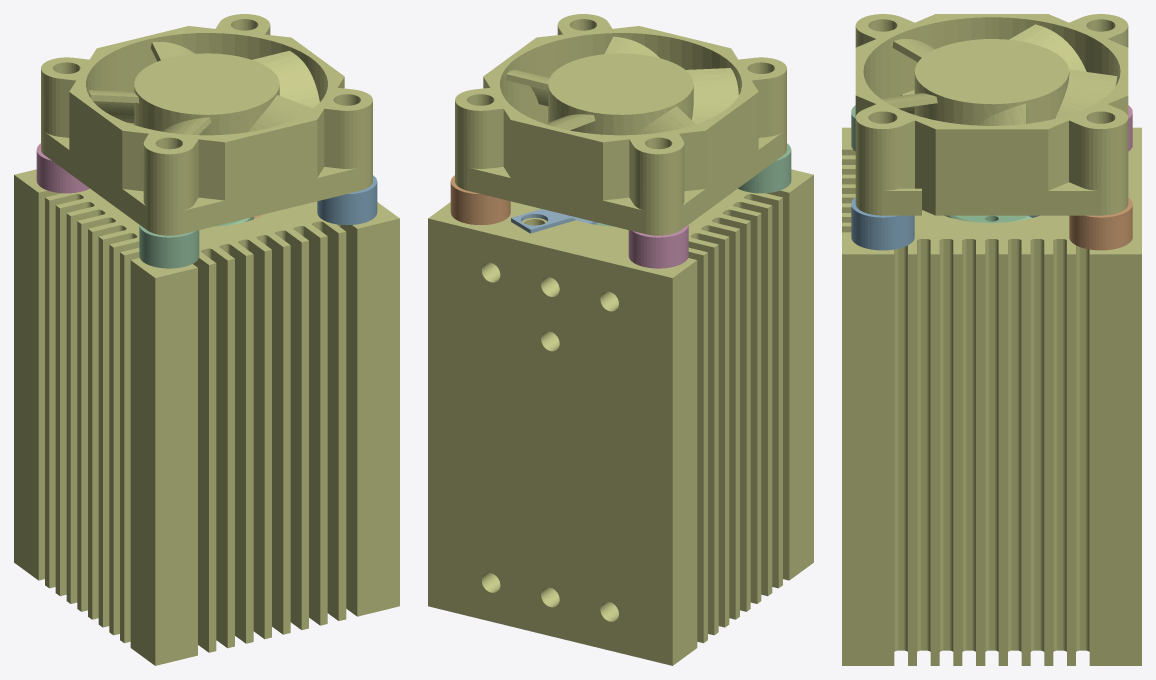
File: case-04_ground_truth.glb
The picture shows the model from 3 angles, left to right: view 1: azimuth 30°, elevation 25°; view 2: azimuth 150°, elevation 25°; view 3: azimuth 270°, elevation 25°; orthographic projection. The views are drawn at different scales.
Visible parts, largest first — view 1: c00001, c00011, c00008, c00010, c00007; view 2: c00001, c00011, c00007, c00009, c00008, c00006; view 3: c00001, c00011, c00009, c00010, c00004.
Part boxes in pixels (x1,y1,x2,y2): c00001: (14,169,399,665); c00011: (41,14,372,235); c00008: (139,225,199,268); c00010: (317,175,377,225); c00007: (36,143,89,193); c00001: (428,169,813,665); c00011: (455,14,786,235); c00007: (628,225,688,268); c00009: (450,175,510,225); c00008: (738,143,791,193); c00006: (511,209,597,233); c00001: (842,127,1141,665); c00011: (855,14,1128,215); c00009: (1069,197,1132,250); c00010: (851,197,914,250); c00004: (944,215,1031,222).
Size of the model in its own units: 33 by 65.5 by 33.
